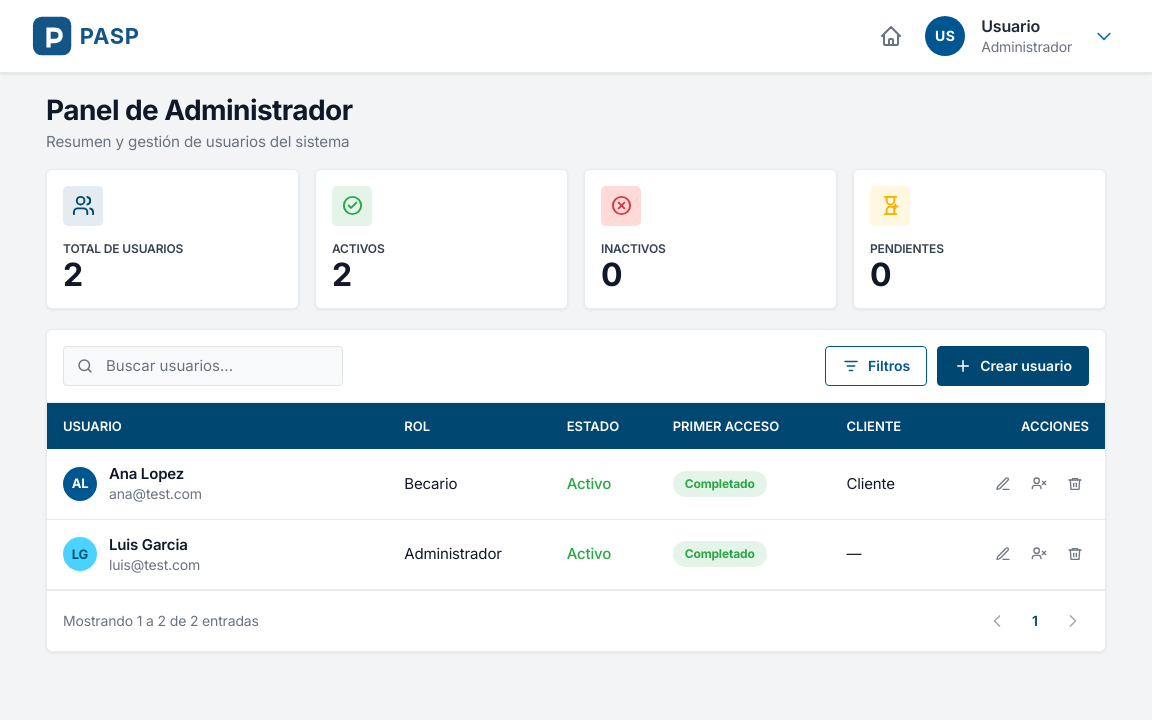
Test case: AdminDashboard › filtra usuarios por texto y permite limpiar la busqueda
Check: the text "Ana Lopez" is shown, box [109, 464, 184, 483]
Type "Luis" into the field labelled "Buscar usuarios...".
click(218, 366); type("Luis")  # box [94, 356, 342, 375]
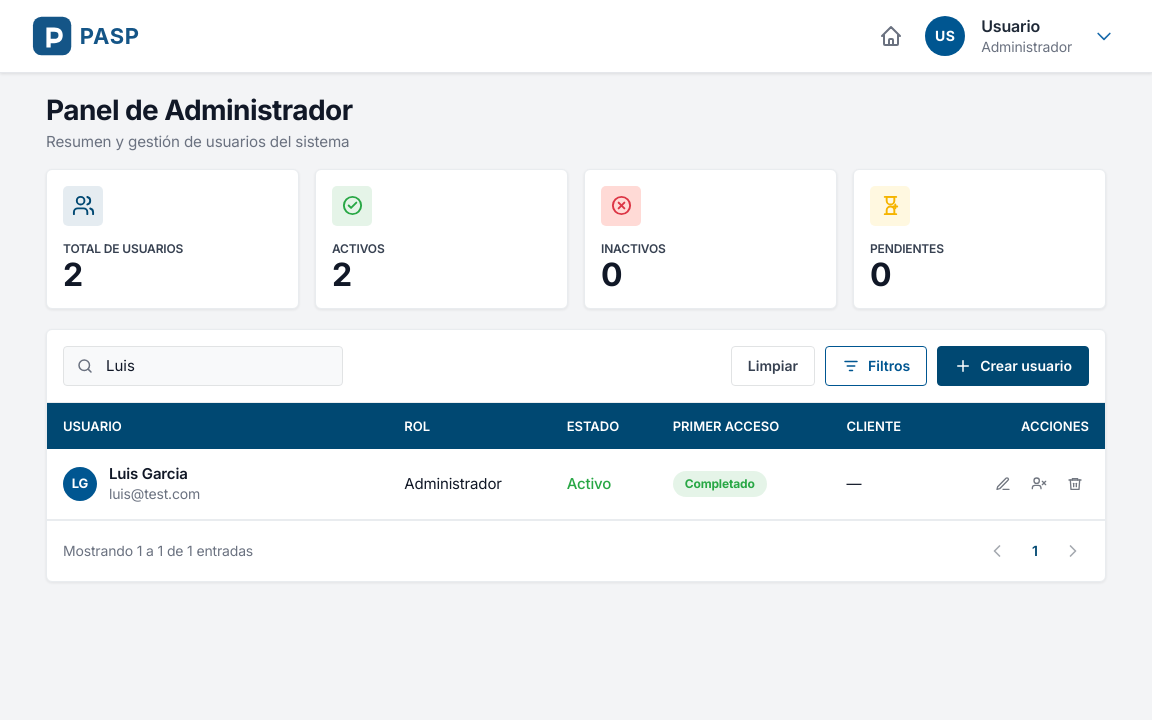
Check: the text "Luis Garcia" is shown, box [109, 465, 200, 483]
Check: the link "Ana Lopez" is gone
Click the button "Limpiar".
click(773, 366)  # box [731, 346, 815, 386]
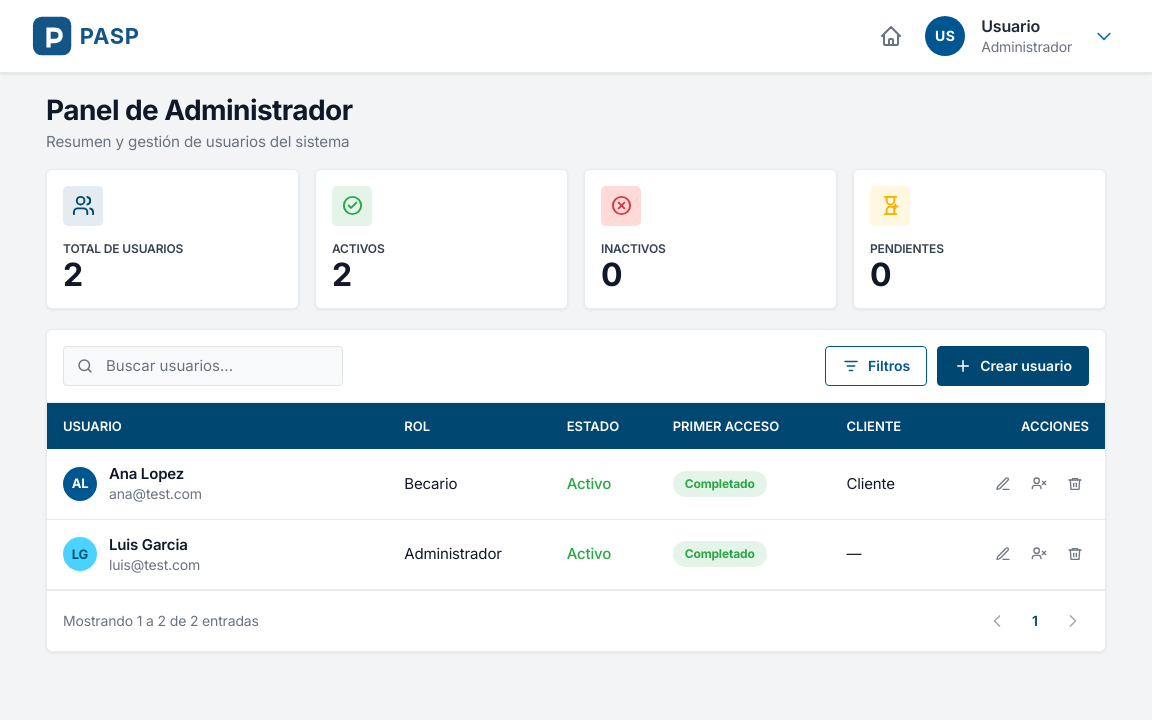
Check: the text "Ana Lopez" is shown, box [109, 464, 184, 483]
